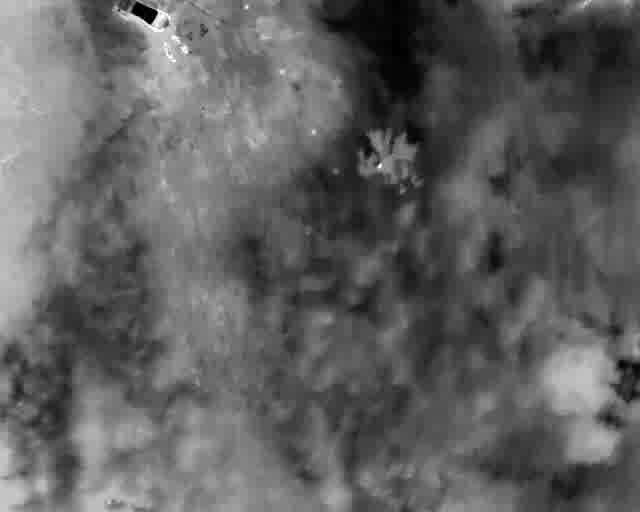car: (111, 0, 171, 33)
person: (163, 49, 177, 62), (159, 41, 171, 51), (170, 34, 182, 43), (178, 45, 189, 54)
